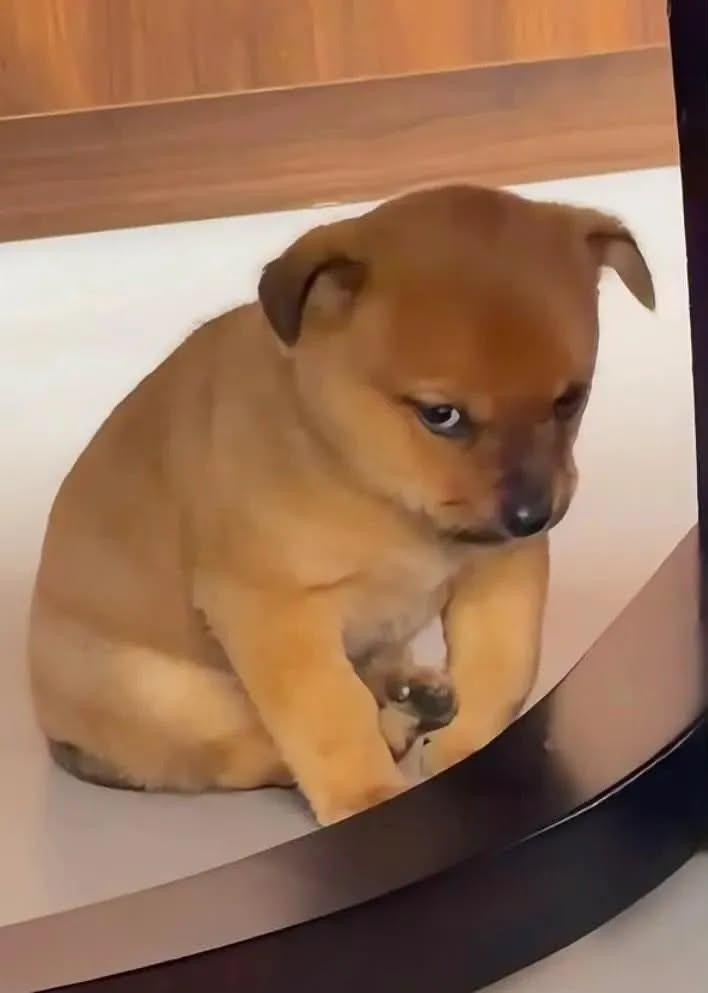puppy-dog: (29, 184, 659, 826)
